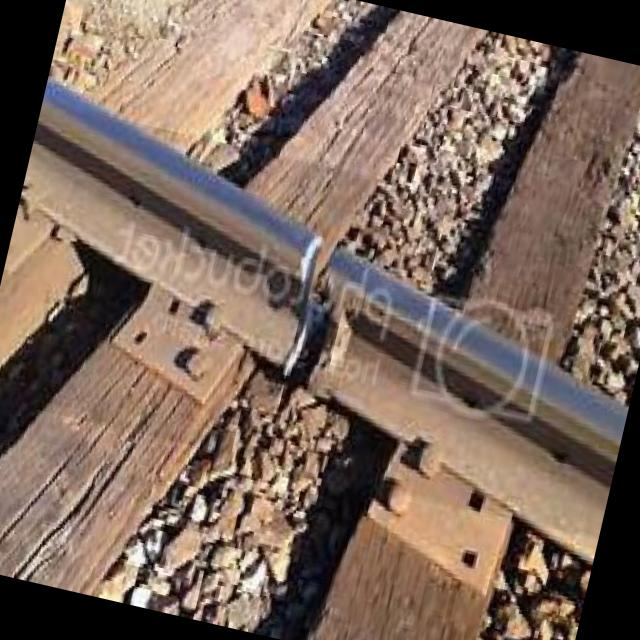defective: (187, 182, 430, 482)
